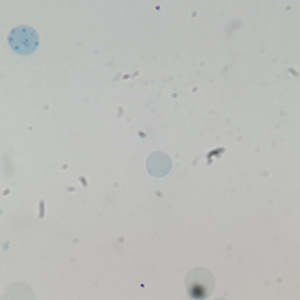aggregate reticulocyte: (6, 25, 41, 57)
erythrocyte: (182, 266, 218, 300), (144, 150, 174, 179)
